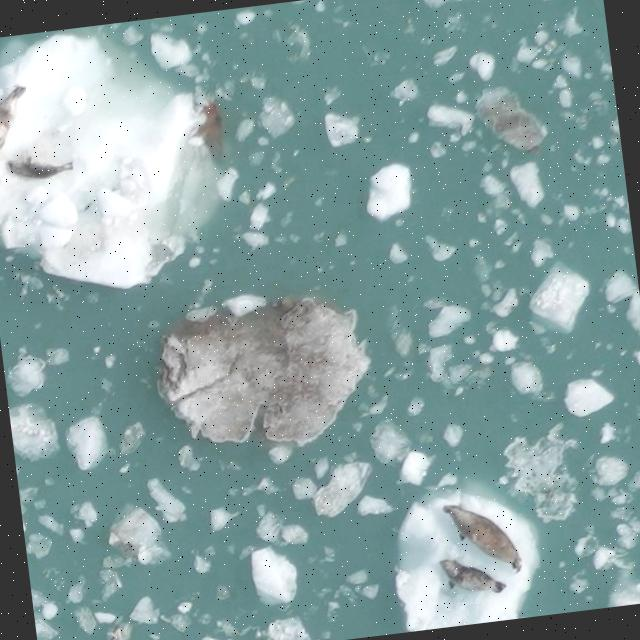seal: (431, 497, 536, 575), (435, 556, 507, 604), (0, 79, 29, 159), (8, 158, 72, 179)
